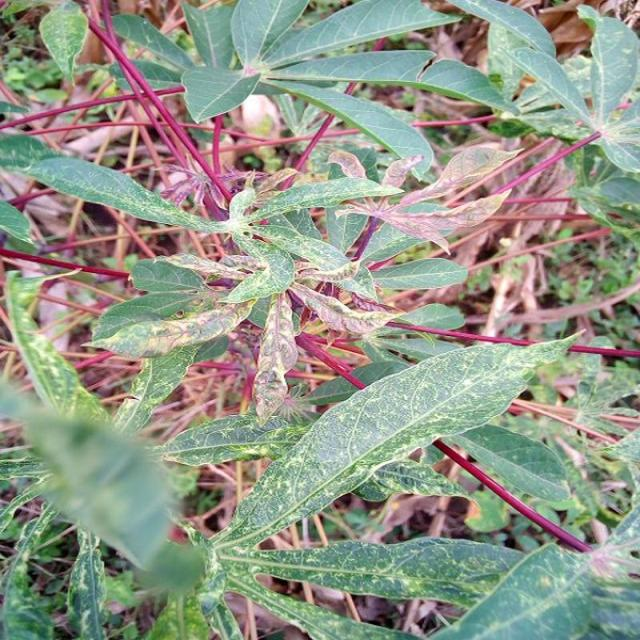cassava leaf: (1, 0, 636, 638), (210, 325, 585, 554)
